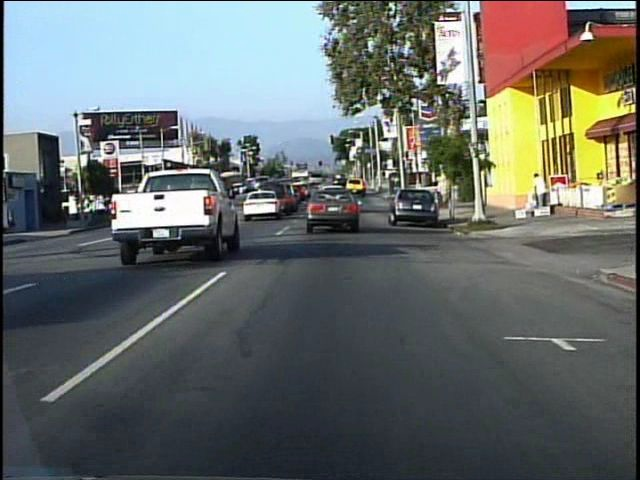person: (527, 167, 549, 210)
